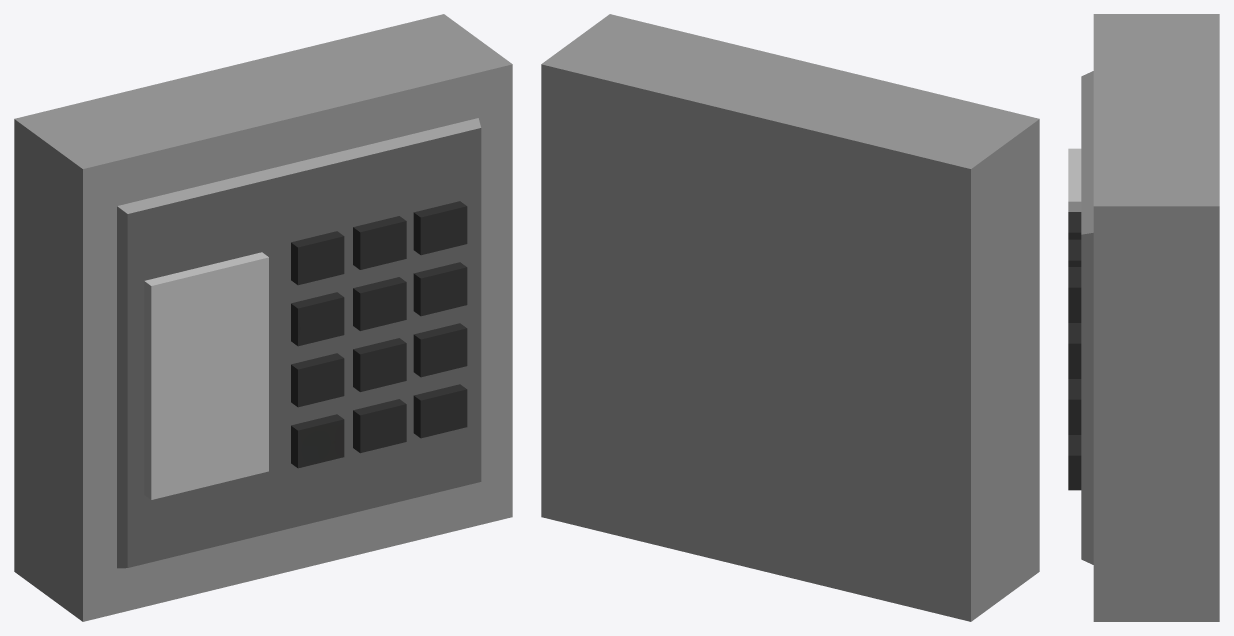
3 renders of one model, left to right at view 1: azimuth 30°, elevation 25°; view 2: azimuth 150°, elevation 25°; view 3: azimuth 270°, elevation 25°, orthographic. The views are drawn at different scales.
Parts seen in each view (by area): view 1: Lo-Body_01; view 2: Lo-Body_01; view 3: Lo-Body_01.
Boxes of the visible parts, x1,y1,x2,y2 form: Lo-Body_01: (14, 14, 512, 621); Lo-Body_01: (541, 14, 1039, 621); Lo-Body_01: (1068, 14, 1219, 621).
Bounding box in the file's own units: 0.1404 × 0.1413 × 0.0466.
Materials: 1 (1 with a texture image).
